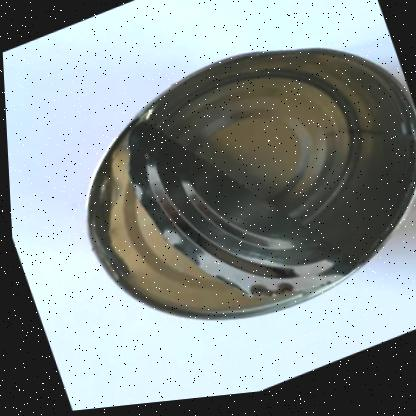Metal: (87, 53, 416, 323)
